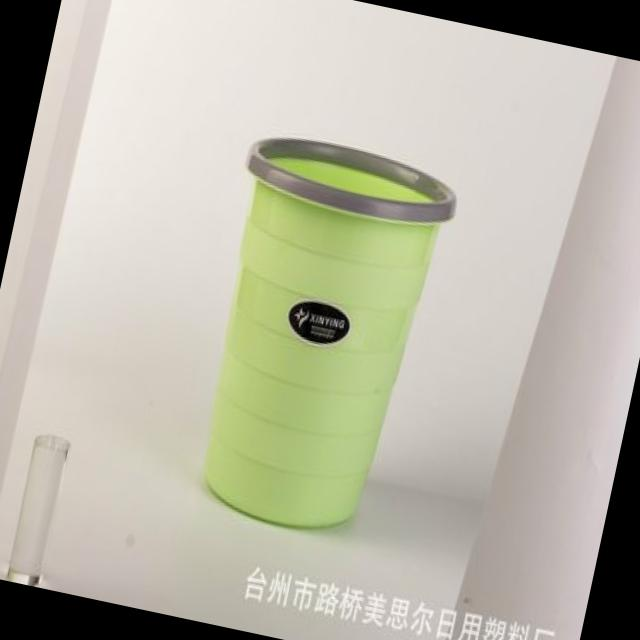dustbin: (166, 115, 472, 562)
